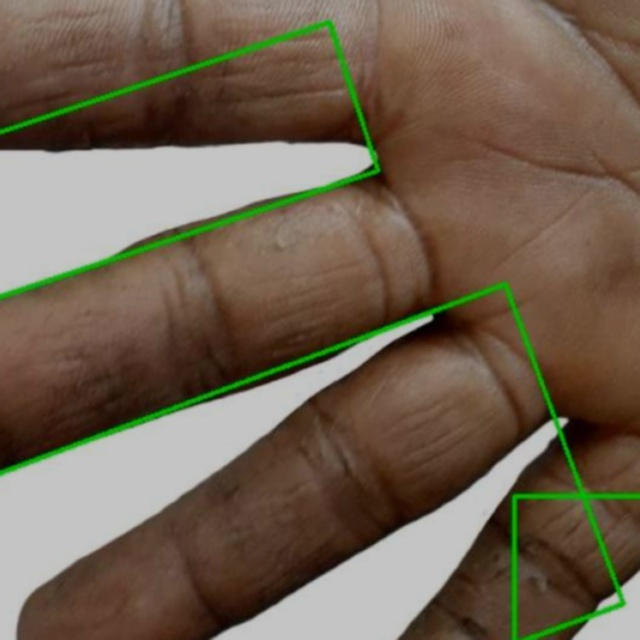Eczema: (0, 276, 623, 639), (0, 23, 384, 312)
